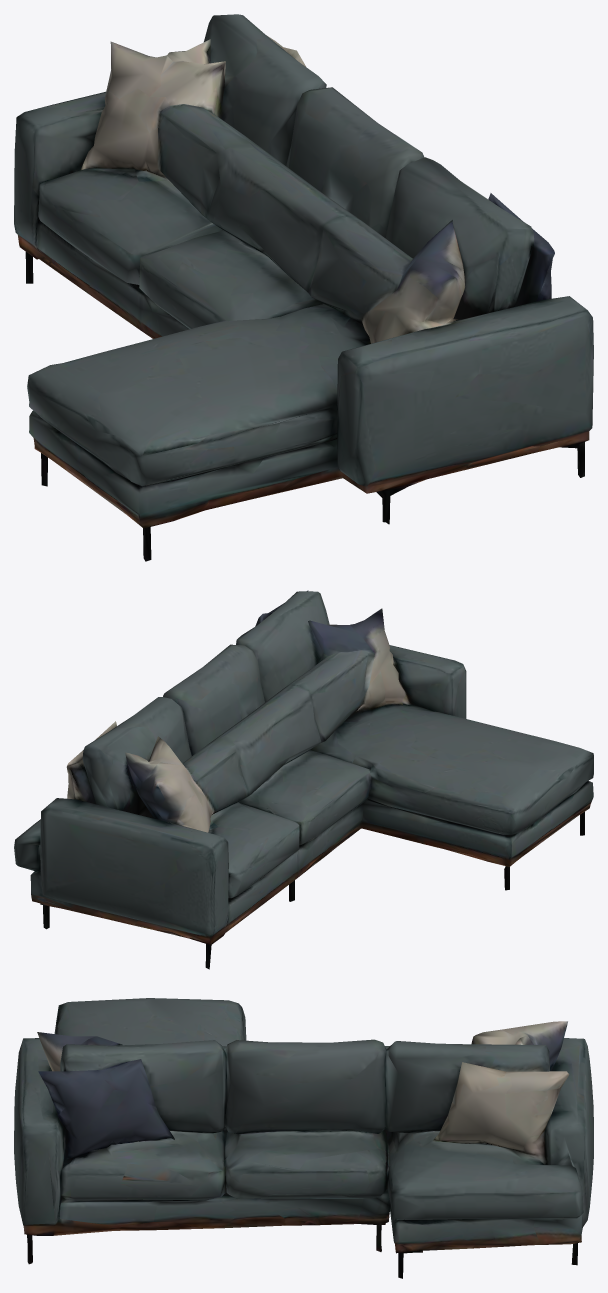
File: au_furn_sofa_loft.glb
3 views of the same model, one above another, from view 1: azimuth 30°, elevation 25°; view 2: azimuth 150°, elevation 25°; view 3: azimuth 270°, elevation 25° (orthographic). The views are drawn at different scales.
Visible parts, largest first — view 1: tripo_node_7f879783-b7e0-4a00-962e-7837f362ec92; view 2: tripo_node_7f879783-b7e0-4a00-962e-7837f362ec92; view 3: tripo_node_7f879783-b7e0-4a00-962e-7837f362ec92.
Part boxes in pixels (x1,y1,x2,y2): tripo_node_7f879783-b7e0-4a00-962e-7837f362ec92: (14, 14, 593, 561); tripo_node_7f879783-b7e0-4a00-962e-7837f362ec92: (14, 590, 593, 969); tripo_node_7f879783-b7e0-4a00-962e-7837f362ec92: (14, 998, 593, 1278).
Size of the model in its own units: 0.7717 by 0.3746 by 0.9793.
1 material, 1 textured.
